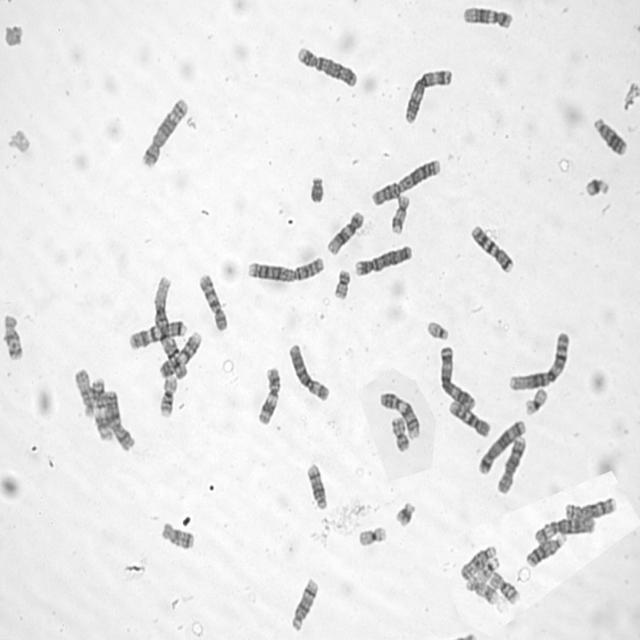A1: (506, 328, 572, 392), (151, 272, 188, 380)
A2: (369, 154, 442, 207), (244, 252, 327, 284)
A3: (401, 65, 454, 126), (437, 343, 477, 411)
B4: (294, 44, 360, 89), (352, 241, 413, 277)
B5: (140, 94, 189, 169), (477, 416, 527, 476)
C10: (197, 270, 229, 333), (446, 398, 492, 438)
C11: (255, 364, 282, 426), (90, 376, 114, 444)
C12: (324, 208, 365, 257), (460, 5, 514, 31)
C6: (286, 340, 331, 402), (531, 514, 596, 546)
C7: (468, 222, 515, 274), (126, 316, 188, 352)
C8: (494, 433, 528, 494), (563, 494, 618, 521)
C9: (156, 328, 203, 378), (378, 388, 421, 441)
D13: (524, 532, 567, 569), (591, 114, 628, 156)
D14: (289, 575, 320, 632), (305, 460, 328, 511)
D15: (457, 542, 498, 582), (72, 364, 95, 419)
E16: (489, 571, 521, 606), (157, 373, 179, 418)
E17: (463, 576, 499, 606), (389, 192, 410, 235)
E18: (158, 519, 196, 551), (2, 310, 25, 362)
F19: (523, 384, 550, 416), (355, 522, 388, 548)
F20: (389, 413, 412, 453), (332, 266, 352, 300)
G21: (582, 173, 611, 199), (392, 498, 417, 528)
G22: (473, 554, 503, 586), (425, 318, 450, 341)
X: (104, 388, 138, 451)
Y: (308, 174, 326, 204)
